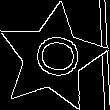O_W: (24, 33, 81, 83)
